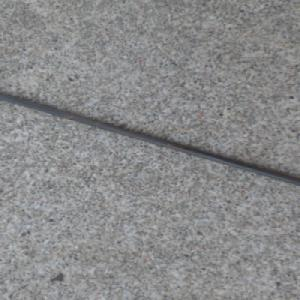LuggagePart: (0, 92, 300, 186)
